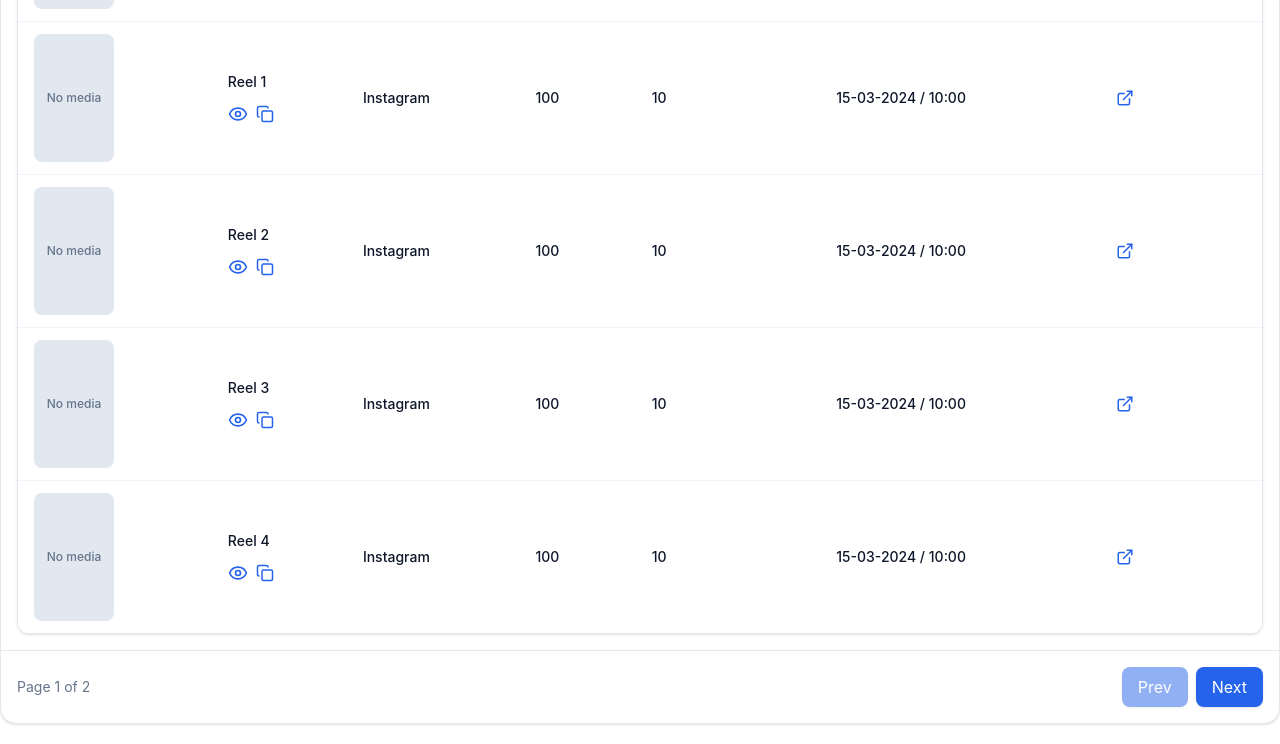
Test case: InstagramReelsTable › pagination › navigates to page 2 when Next is clicked
(page scrolled)
Click the button "Next". click: [1229, 687]
box: [1196, 667, 1263, 707]
(page scrolled)
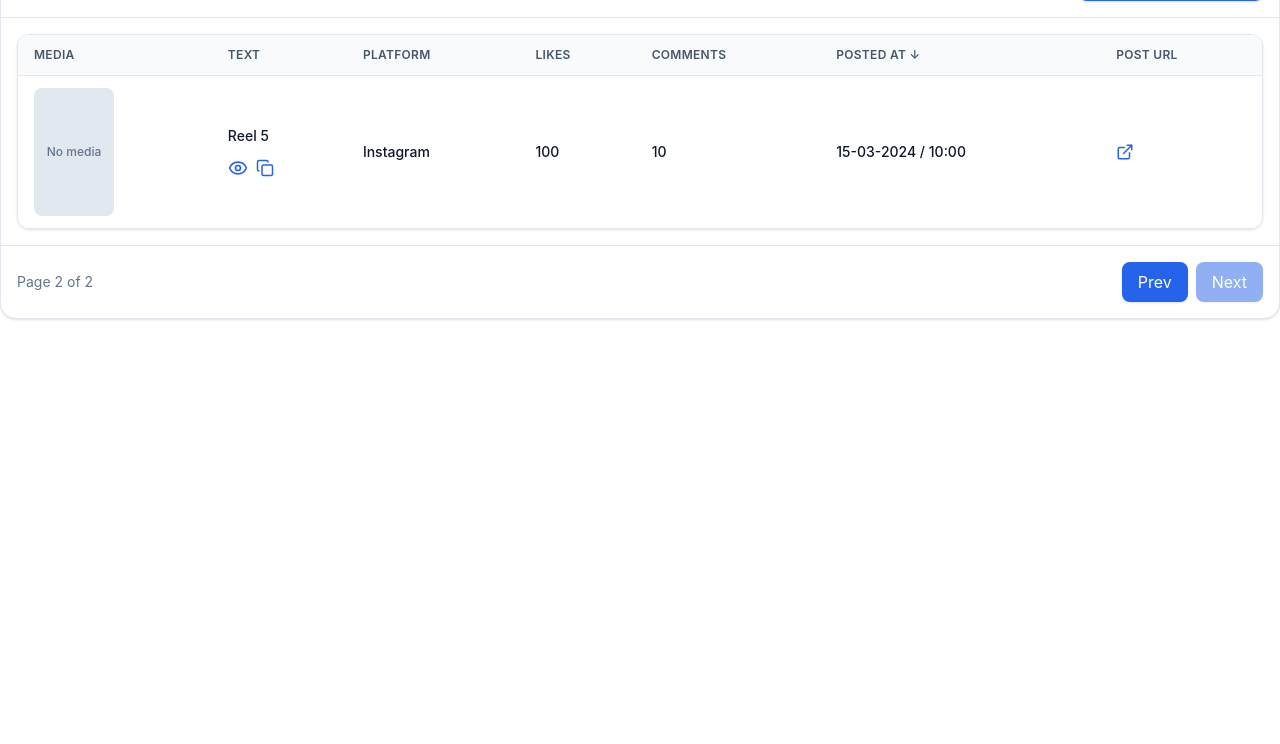
Check: the text "Page 2 of 2" is shown, box [17, 272, 93, 292]
